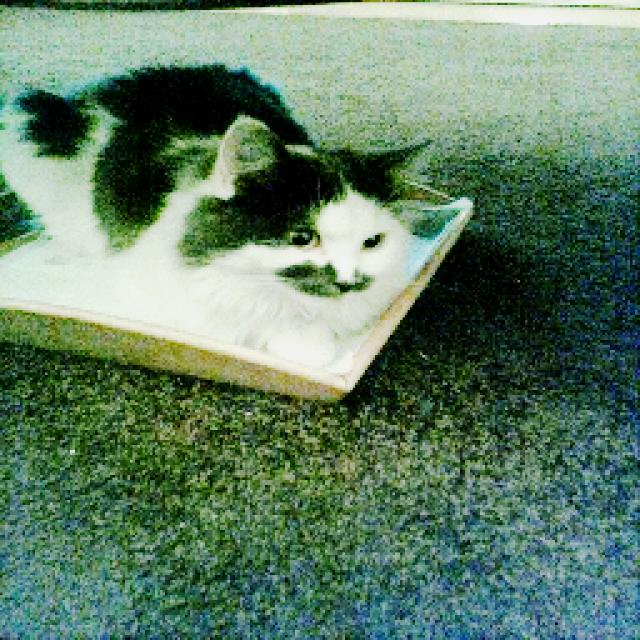cat: (1, 64, 439, 380)
